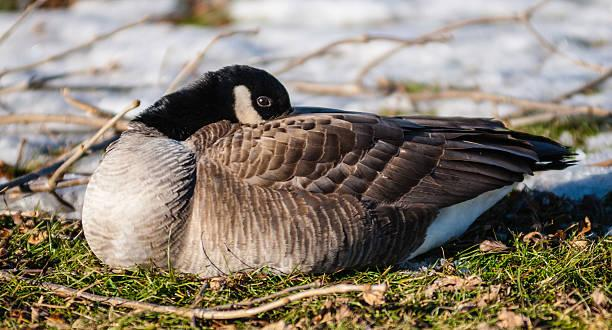Canadian-Goose: (74, 66, 551, 295)
